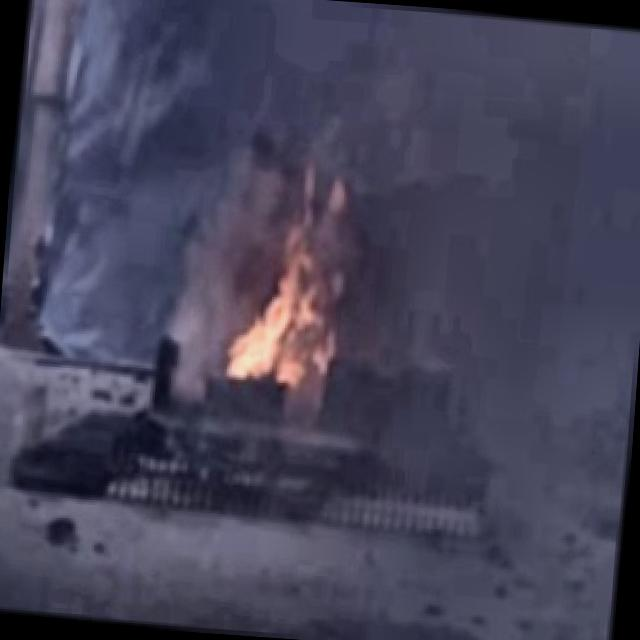fire: (220, 207, 342, 422)
